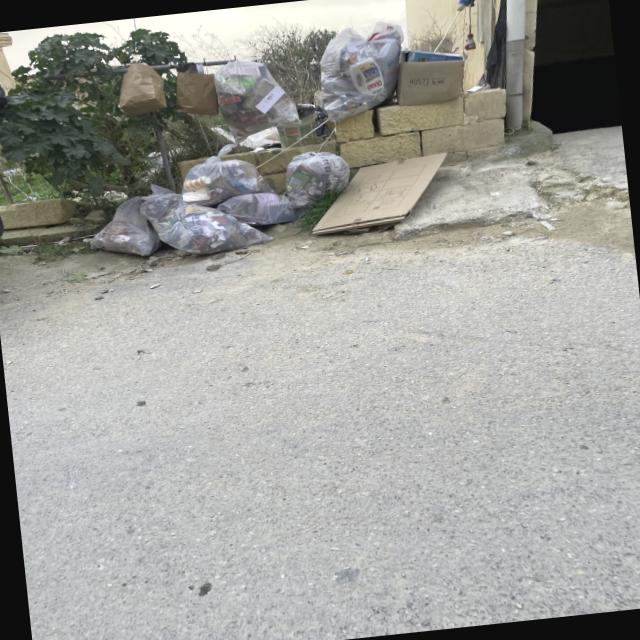grey_bag: (312, 18, 408, 122), (211, 53, 303, 144), (148, 196, 276, 257), (172, 144, 276, 200), (82, 192, 160, 261), (284, 148, 348, 207), (221, 190, 297, 231), (138, 188, 176, 218)
other_waste: (402, 42, 471, 108), (109, 58, 170, 119), (168, 58, 216, 119)
